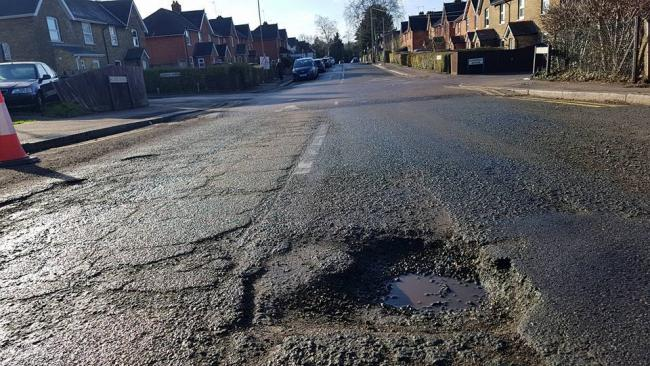pothole: (279, 213, 497, 326)
